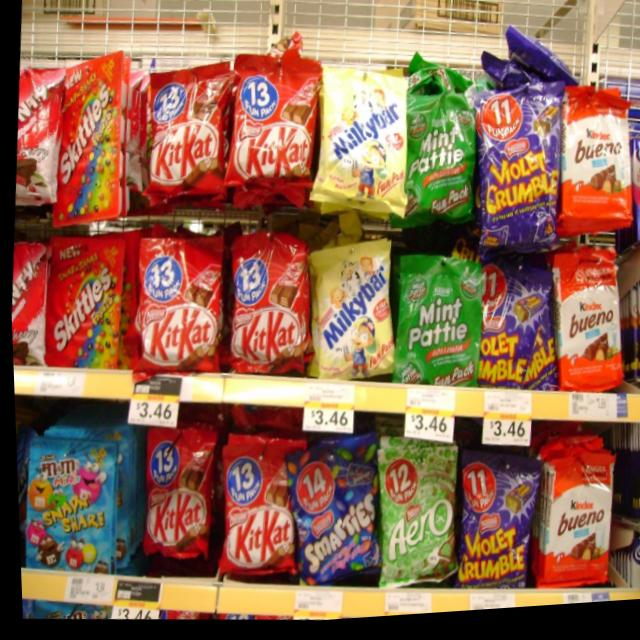q151: (42, 43, 132, 249), (37, 231, 128, 377)
q280: (116, 231, 224, 377), (225, 51, 326, 204), (207, 422, 297, 589), (131, 68, 228, 211), (224, 235, 307, 381), (139, 417, 211, 561)
